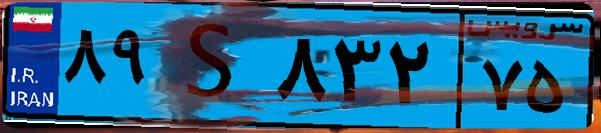2: (385, 28, 445, 110)
3: (330, 28, 385, 110)
5: (525, 38, 570, 115)
7: (475, 38, 525, 113)
8: (270, 28, 330, 110), (57, 26, 110, 100)
9: (110, 28, 158, 98)
S: (158, 12, 270, 120)
